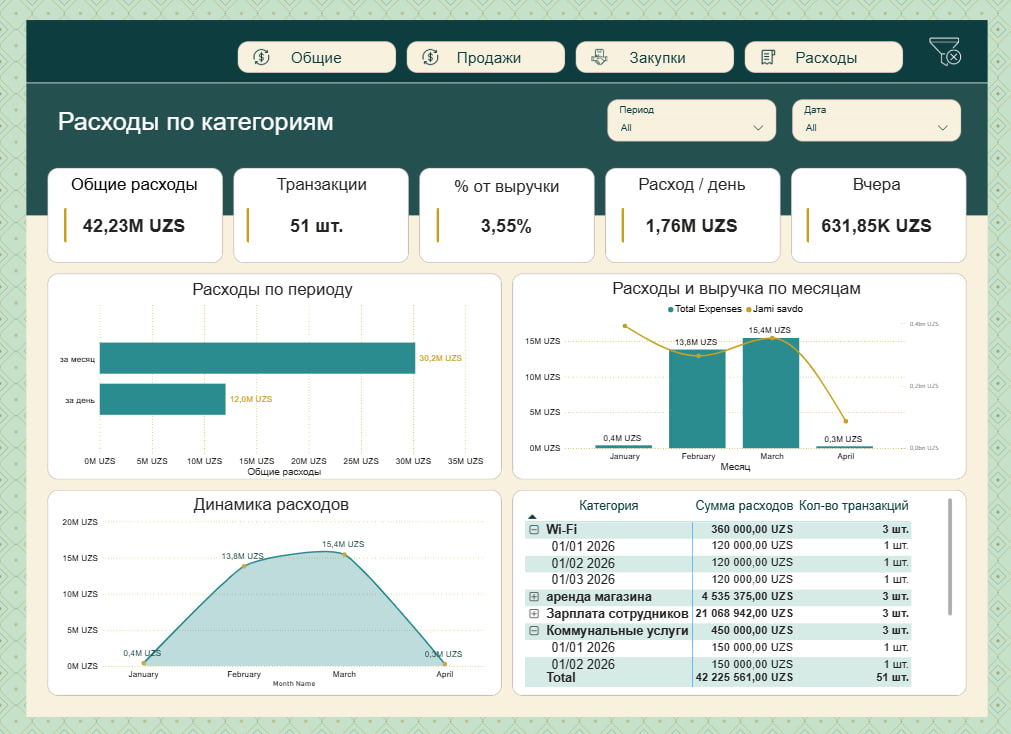

Layout of this report page (visuals, bound fields, positions):
{"tool":"powerbi","page":{"name":"Xarajatlar","canvas":[1920,1400],"ordinal":3},"visuals":[{"type":"cardVisual","fields":{"Data":["333.Daily Avg Expense"]},"box":[1160,380,300.9,100],"z":0},{"type":"cardVisual","fields":{"Data":["333.Expense Transactions"]},"box":[450,380,300,100],"z":1000},{"type":"cardVisual","fields":{"Data":["333.Expense vs Sales %"]},"box":[810,380,300,100],"z":2000},{"type":"cardVisual","fields":{"Data":["333.Max Single Expense"]},"box":[1510,380,300,100],"z":3000},{"type":"cardVisual","fields":{"Data":["333.Total Expenses"]},"box":[105,380,300.9,100],"z":4000},{"type":"actionButton","box":[780,80,295,60],"z":5000},{"type":"actionButton","box":[1100,80,290,60],"z":6000},{"type":"actionButton","box":[1420,80,290,60],"z":7000},{"type":"actionButton","box":[460,80,280,60],"z":8000},{"type":"slicer","title":"Date","fields":{"Values":["DimDate.Year Hierarchy.Year","DimDate.Year Hierarchy.Month Name","DimDate.Year Hierarchy.Day"]},"box":[1510,195,300,70],"z":9000},{"type":"textbox","box":[105,330,300,60],"z":10000},{"type":"textbox","box":[460,330,300,60],"z":11000},{"type":"textbox","box":[810,331,300,60],"z":12000},{"type":"textbox","box":[1510,330,300,60],"z":13000},{"type":"textbox","box":[1160,330,300.9,60.2],"z":14000},{"type":"clusteredBarChart","title":"Расходы по периоду","fields":{"Category":["Расходы.Период","Расходы.Категория"],"Y":["333.Total Expenses"]},"box":[104.2,532.4,824.1,377.3],"z":15000},{"type":"areaChart","title":"Динамика расходов","fields":{"Y":["333.Total Expenses"],"Category":["DimDate.Year Hierarchy.Year","DimDate.Year Hierarchy.Month Name","DimDate.Year Hierarchy.Day"]},"box":[105,940,820,370],"z":16000},{"type":"lineClusteredColumnComboChart","title":"Расходы и выручка по месяцам","fields":{"Category":["DimDate.Year Hierarchy.Year","DimDate.Year Hierarchy.Month Name"],"Y":["333.Total Expenses"],"Y2":["111.Jami savdo"]},"box":[980,530,830,370],"z":17000},{"type":"pivotTable","fields":{"Values":["333.Total Expenses","333.Expense Transactions"],"Rows":["Расходы.Категория","Расходы.Дата"]},"box":[990.7,939.8,819.4,368.1],"z":18000},{"type":"slicer","fields":{"Values":["Расходы.Период"]},"box":[1160,195,300.9,75],"z":19000},{"type":"textbox","box":[105,200,600,80],"z":20000},{"type":"actionButton","box":[1755,65,70,70],"z":21000}]}

Visuals, with their boxes in screenshot pixels (x1, y1, x2, y2), scaled from the page's 1920x1400 canvas onto the 1011x734 screenshot:
cardVisual - 333.Daily Avg Expense: bbox(611, 199, 769, 252)
cardVisual - 333.Expense Transactions: bbox(237, 199, 395, 252)
cardVisual - 333.Expense vs Sales %: bbox(427, 199, 584, 252)
cardVisual - 333.Max Single Expense: bbox(795, 199, 953, 252)
cardVisual - 333.Total Expenses: bbox(55, 199, 214, 252)
actionButton: bbox(411, 42, 566, 73)
actionButton: bbox(579, 42, 732, 73)
actionButton: bbox(748, 42, 900, 73)
actionButton: bbox(242, 42, 390, 73)
"Date" slicer: bbox(795, 102, 953, 139)
textbox: bbox(55, 173, 213, 204)
textbox: bbox(242, 173, 400, 204)
textbox: bbox(427, 174, 584, 205)
textbox: bbox(795, 173, 953, 204)
textbox: bbox(611, 173, 769, 205)
"Расходы по периоду" clusteredBarChart: bbox(55, 279, 489, 477)
"Динамика расходов" areaChart: bbox(55, 493, 487, 687)
"Расходы и выручка по месяцам" lineClusteredColumnComboChart: bbox(516, 278, 953, 472)
pivotTable - 333.Total Expenses x 333.Expense Transactions: bbox(522, 493, 953, 686)
slicer - Расходы.Период: bbox(611, 102, 769, 142)
textbox: bbox(55, 105, 371, 147)
actionButton: bbox(924, 34, 961, 71)
